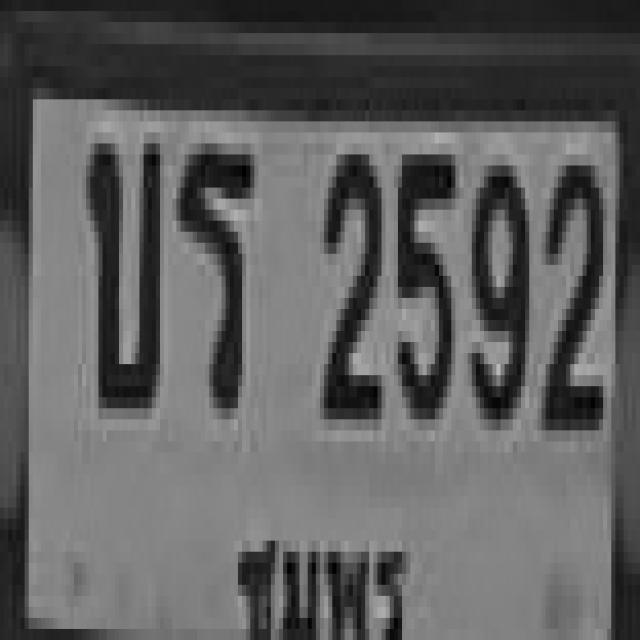2: (537, 154, 599, 420), (320, 144, 377, 408)
35BorBaiMai: (82, 132, 156, 398)
44RorRuea: (177, 132, 250, 408)
5: (394, 144, 451, 408)
9: (468, 160, 525, 414)
Chumphon: (226, 493, 409, 640)
